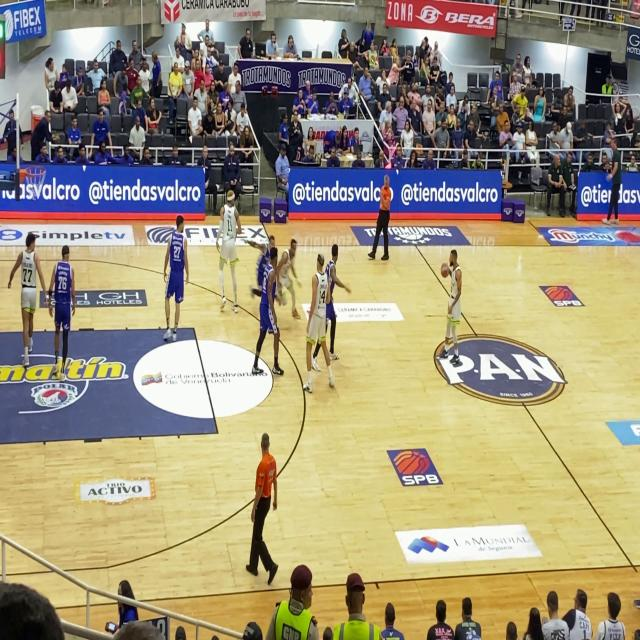Ball: (440, 260, 450, 282)
referee: (242, 435, 281, 586), (366, 160, 398, 277)
team1: (8, 227, 48, 390), (302, 246, 335, 400), (430, 242, 467, 366), (212, 188, 243, 319), (277, 237, 302, 326)
team2: (44, 237, 84, 382), (160, 203, 192, 351), (249, 246, 283, 380), (327, 233, 351, 358), (247, 218, 275, 288)
ubasket: (23, 162, 47, 202)
